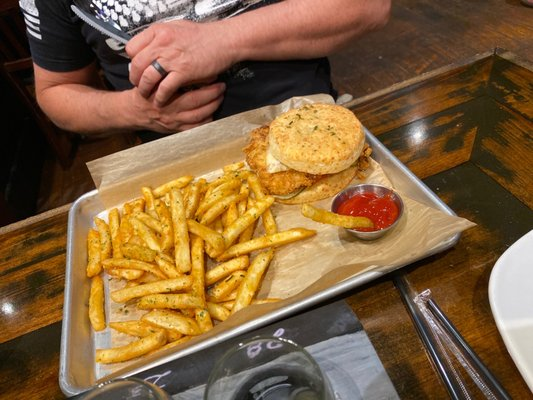sushi: (320, 184, 404, 240)
